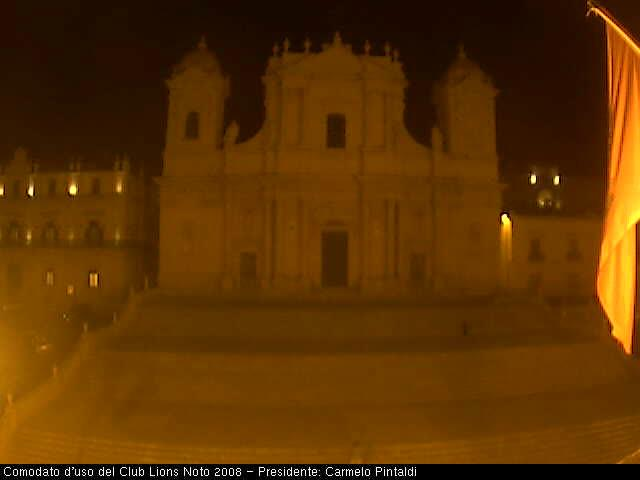person: (457, 317, 471, 340)
